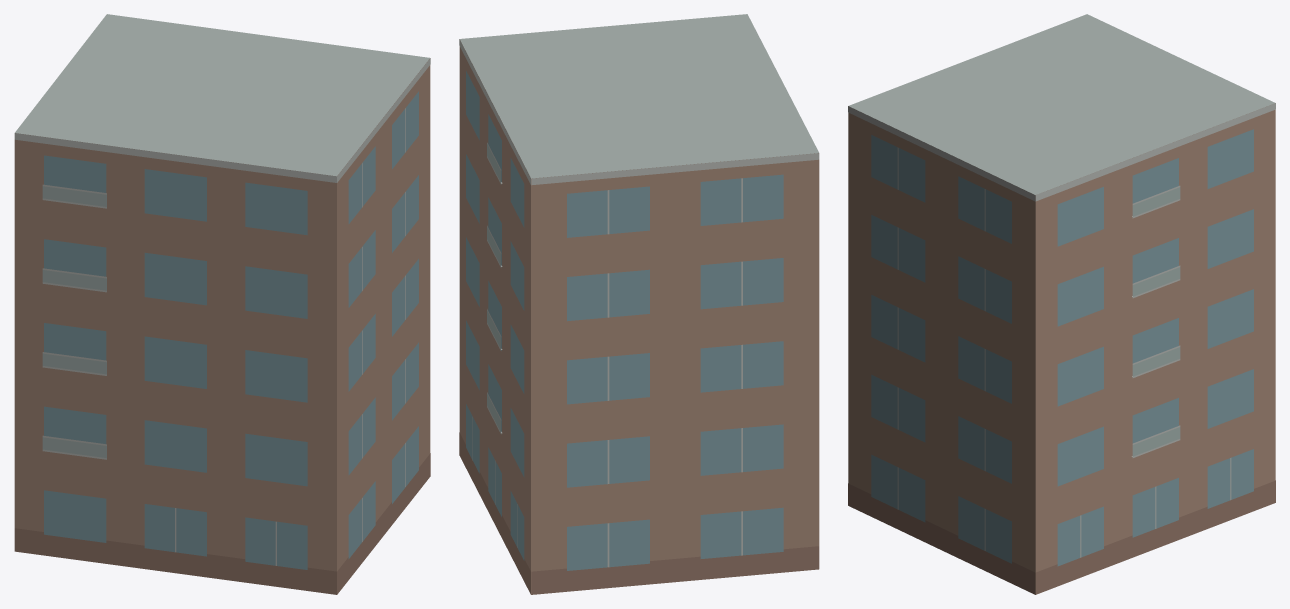
Rendered from survey-upis-32890882.glb.
3 views of the same model, side by side, from view 1: azimuth 30°, elevation 25°; view 2: azimuth 150°, elevation 25°; view 3: azimuth 270°, elevation 25° (orthographic). The views are drawn at different scales.
Visible parts, largest first — view 1: survey-upis-32890882.tmp; view 2: survey-upis-32890882.tmp; view 3: survey-upis-32890882.tmp.
Boxes of the visible parts, <box> form: survey-upis-32890882.tmp: <box>14,14,430,594</box>; survey-upis-32890882.tmp: <box>459,14,819,594</box>; survey-upis-32890882.tmp: <box>848,14,1275,594</box>.
Bounding box in the file's own units: 14.68 × 15.1 × 14.64.
